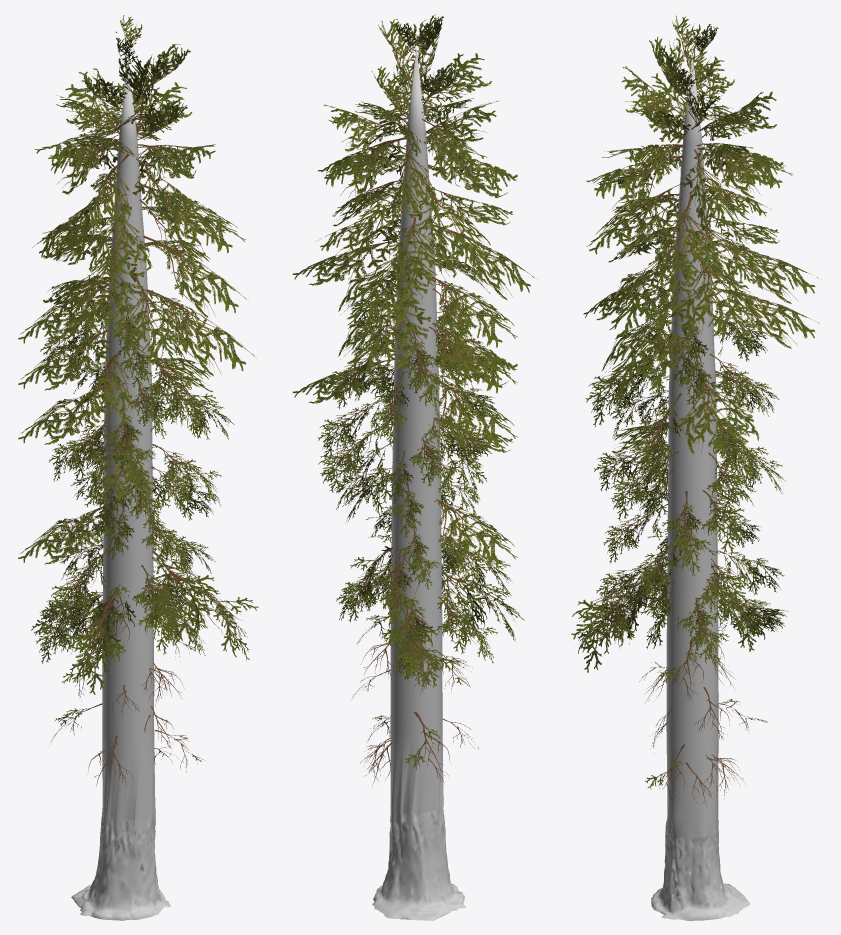
Rendered from redwood_04.obj.
3 views of the same model, side by side, from view 1: azimuth 30°, elevation 25°; view 2: azimuth 150°, elevation 25°; view 3: azimuth 270°, elevation 25° (orthographic).
Visible parts, largest first — view 1: Redwood_04; view 2: Redwood_04; view 3: Redwood_04.
Boxes of the visible parts, left/top/right/bottom form: Redwood_04: left=18, top=15, right=258, bottom=920; Redwood_04: left=292, top=14, right=534, bottom=920; Redwood_04: left=571, top=15, right=821, bottom=920.
Bounding box in the file's own units: 20.11 × 80.88 × 21.29.
